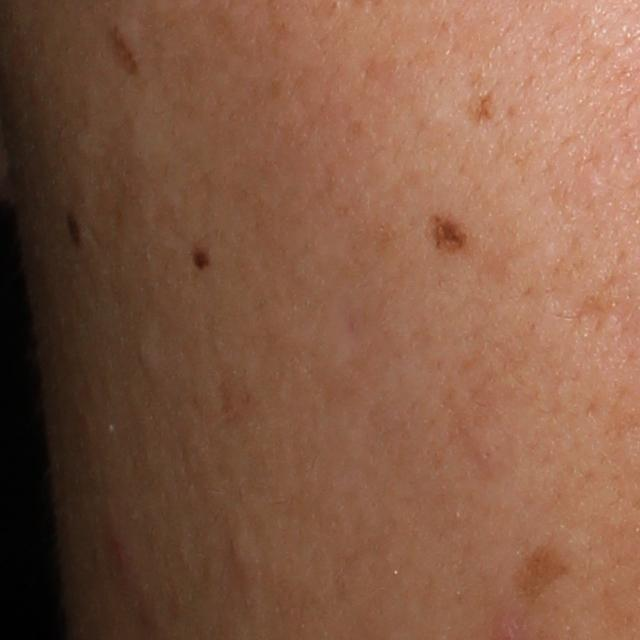atrophic_scar: (317, 288, 377, 369), (563, 287, 616, 326)
comedo: (223, 536, 253, 564)
melasma: (516, 534, 583, 612)
nevus: (105, 20, 147, 81), (424, 212, 472, 256), (58, 204, 83, 260), (189, 244, 212, 274)
